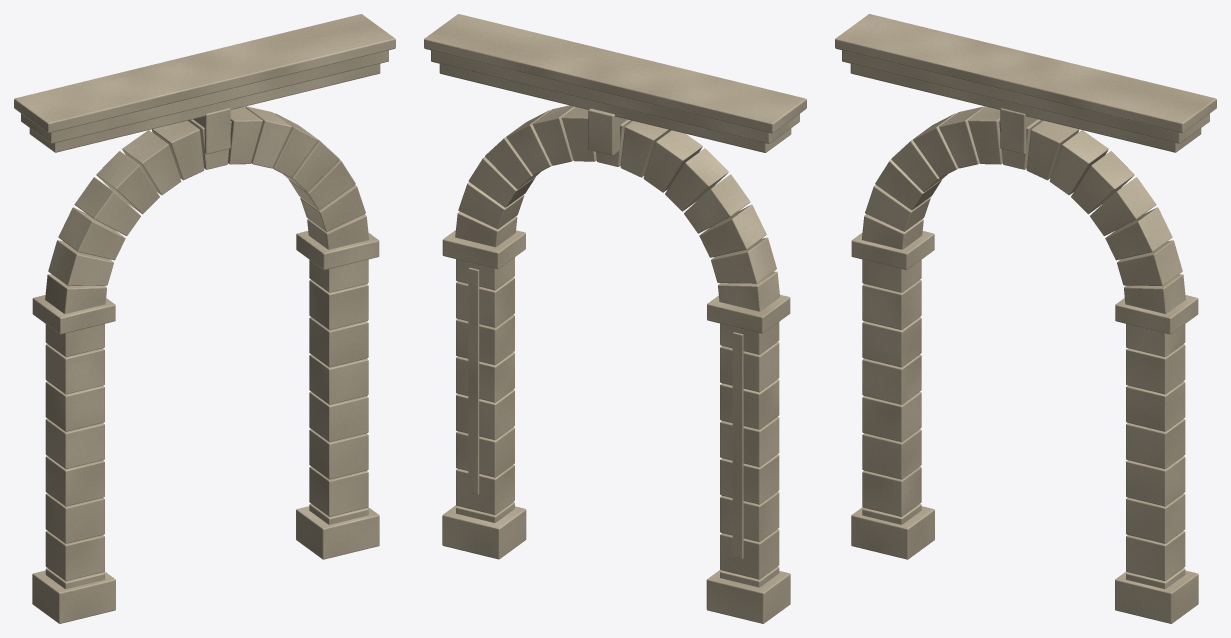
File: stone-entrance-surround.glb
3 views of the same model, side by side, from view 1: azimuth 30°, elevation 25°; view 2: azimuth 150°, elevation 25°; view 3: azimuth 330°, elevation 25° (orthographic).
Parts seen in each view (by area): view 1: stone-entrance-surround; view 2: stone-entrance-surround; view 3: stone-entrance-surround.
Part boxes in pixels (x1,y1,x2,y2): stone-entrance-surround: [14, 14, 395, 623]; stone-entrance-surround: [424, 14, 806, 623]; stone-entrance-surround: [835, 14, 1216, 623].
Bounding box in the file's own units: 2.8 × 3.89 × 0.48.
1 material, 1 textured.
